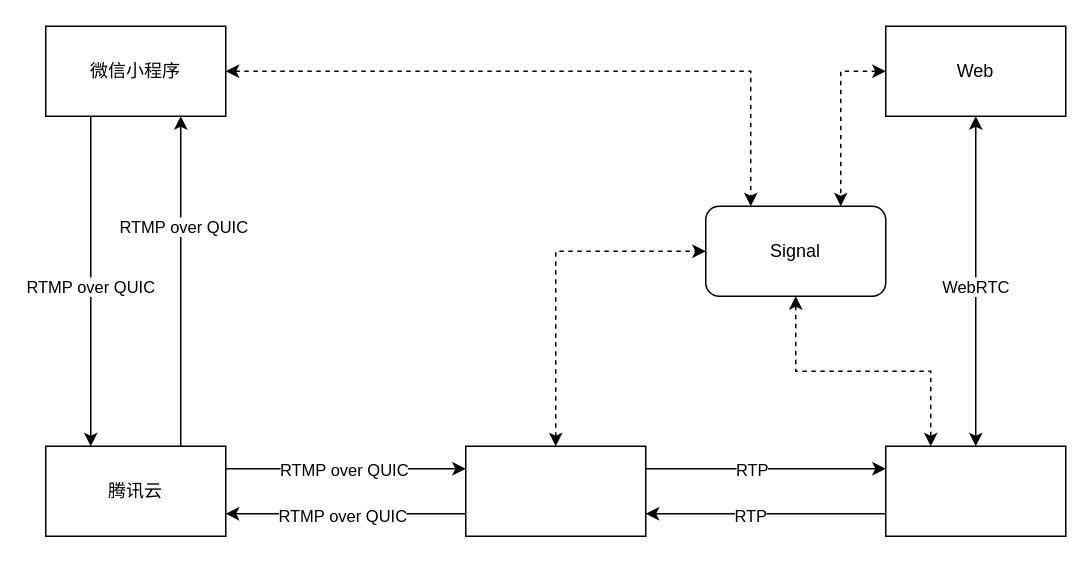
This 1092x563 diagram has some shape labels left out. Here are the shapes that lost their labels. From the top down, the centre of each, then its label:
the point at 555,490: RTMP网关
the point at 975,490: SFU
